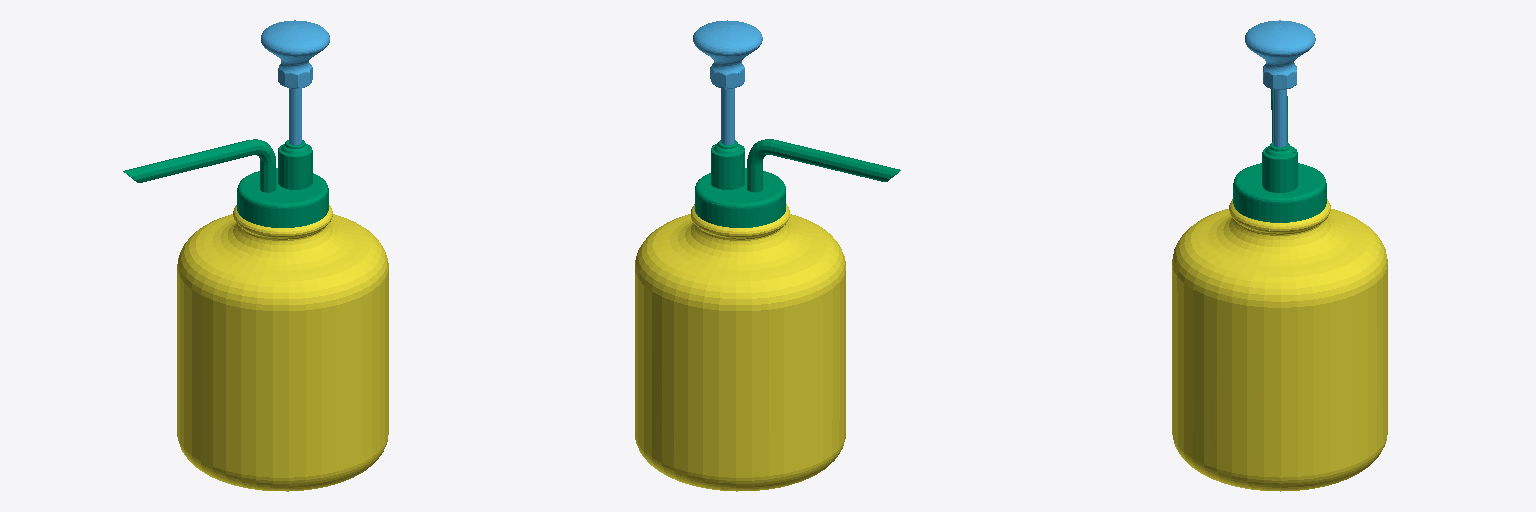
The robot description file, URDF, robot "partnet_8c726f9c-876e-4583-89ae-4255711b14f0":
<?xml version="1.0" ?>
<robot name="partnet_8c726f9c-876e-4583-89ae-4255711b14f0">
	<link name="base"/>
	<link name="link_0">
		<visual name="pressing_lid-1">
			<origin xyz="-0.005210566552212842 0 0.05300036527483853"/>
			<geometry>
				<mesh filename="textured_objs/original_2.obj"/>
			</geometry>
		</visual>
		<visual name="pressing_lid-1">
			<origin xyz="-0.005210566552212842 0 0.05300036527483853"/>
			<geometry>
				<mesh filename="textured_objs/original_4.obj"/>
			</geometry>
		</visual>
		<collision>
			<origin xyz="-0.005210566552212842 0 0.05300036527483853"/>
			<geometry>
				<mesh filename="textured_objs/original_2.obj"/>
			</geometry>
		</collision>
		<collision>
			<origin xyz="-0.005210566552212842 0 0.05300036527483853"/>
			<geometry>
				<mesh filename="textured_objs/original_4.obj"/>
			</geometry>
		</collision>
	</link>
	<joint name="joint_0" type="continuous">
		<origin xyz="0.0 0 0.0"/>
		<axis xyz="0 1 0"/>
		<child link="link_0"/>
		<parent link="link_0_helper"/>
	</joint>
	<link name="link_1">
		<visual name="head-3">
			<origin xyz="-0.005746960569657086 0 0.0077259795611607784"/>
			<geometry>
				<mesh filename="textured_objs/original_6.obj"/>
			</geometry>
		</visual>
		<visual name="head-3">
			<origin xyz="-0.005746960569657086 0 0.0077259795611607784"/>
			<geometry>
				<mesh filename="textured_objs/original_3.obj"/>
			</geometry>
		</visual>
		<visual name="head-3">
			<origin xyz="-0.005746960569657086 0 0.0077259795611607784"/>
			<geometry>
				<mesh filename="textured_objs/original_11.obj"/>
			</geometry>
		</visual>
		<collision>
			<origin xyz="-0.005746960569657086 0 0.0077259795611607784"/>
			<geometry>
				<mesh filename="textured_objs/original_6.obj"/>
			</geometry>
		</collision>
		<collision>
			<origin xyz="-0.005746960569657086 0 0.0077259795611607784"/>
			<geometry>
				<mesh filename="textured_objs/original_3.obj"/>
			</geometry>
		</collision>
		<collision>
			<origin xyz="-0.005746960569657086 0 0.0077259795611607784"/>
			<geometry>
				<mesh filename="textured_objs/original_11.obj"/>
			</geometry>
		</collision>
	</link>
	<joint name="joint_1" type="continuous">
		<origin xyz="0.0 0 0.0"/>
		<axis xyz="0 -1 0"/>
		<child link="link_1"/>
		<parent link="link_1_helper"/>
	</joint>
	<link name="link_2">
		<visual name="base_body-4">
			<origin xyz="0 0 0"/>
			<geometry>
				<mesh filename="textured_objs/original_9.obj"/>
			</geometry>
		</visual>
		<visual name="base_body-4">
			<origin xyz="0 0 0"/>
			<geometry>
				<mesh filename="textured_objs/original_7.obj"/>
			</geometry>
		</visual>
		<visual name="base_body-4">
			<origin xyz="0 0 0"/>
			<geometry>
				<mesh filename="textured_objs/original_10.obj"/>
			</geometry>
		</visual>
		<collision>
			<origin xyz="0 0 0"/>
			<geometry>
				<mesh filename="textured_objs/original_9.obj"/>
			</geometry>
		</collision>
		<collision>
			<origin xyz="0 0 0"/>
			<geometry>
				<mesh filename="textured_objs/original_7.obj"/>
			</geometry>
		</collision>
		<collision>
			<origin xyz="0 0 0"/>
			<geometry>
				<mesh filename="textured_objs/original_10.obj"/>
			</geometry>
		</collision>
	</link>
	<joint name="joint_2" type="fixed">
		<origin rpy="1.570796326794897 0 -1.570796326794897" xyz="0 0 0"/>
		<child link="link_2"/>
		<parent link="base"/>
	</joint>
	<link name="link_0_helper">
		<inertial>
			<origin xyz="0 0 0"/>
			<mass value="1e-6"/>
			<inertia ixx="1e-10" ixy="0" ixz="0" iyy="1e-10" iyz="0" izz="1e-10"/>
		</inertial>
	</link>
	<joint name="joint_3" type="prismatic">
		<origin xyz="-0.0005363940174442439 0 -0.04527438571367775"/>
		<axis xyz="0 -1 0"/>
		<child link="link_0_helper"/>
		<parent link="link_1"/>
		<limit lower="0" upper="0.2"/>
	</joint>
	<link name="link_1_helper">
		<inertial>
			<origin xyz="0 0 0"/>
			<mass value="1e-6"/>
			<inertia ixx="1e-10" ixy="0" ixz="0" iyy="1e-10" iyz="0" izz="1e-10"/>
		</inertial>
	</link>
	<joint name="joint_4" type="prismatic">
		<origin xyz="0.005746960569657086 0 -0.0077259795611607784"/>
		<axis xyz="0 1 0"/>
		<child link="link_1_helper"/>
		<parent link="link_2"/>
		<limit lower="0" upper="0.020000000000000018"/>
	</joint>
</robot>

--- Facts derived from the render (not from the file) ---
The picture shows the robot from 3 angles, left to right: view 1: azimuth 30°, elevation 25°; view 2: azimuth 150°, elevation 25°; view 3: azimuth 270°, elevation 25°; orthographic projection.
Robot: partnet_8c726f9c-876e-4583-89ae-4255711b14f0 — 6 links, 5 joints (2 continuous, 2 prismatic, 1 fixed); root link base; default pose: every joint at zero.
Links seen in each view (by area): view 1: link_2, link_1, link_0; view 2: link_2, link_1, link_0; view 3: link_2, link_1, link_0.
Boxes of the visible links, box(x1,y1,x2,y2) form: link_2: box(177, 205, 388, 491); link_1: box(123, 139, 328, 227); link_0: box(261, 20, 329, 148); link_2: box(635, 204, 845, 491); link_1: box(695, 139, 900, 227); link_0: box(693, 20, 762, 144); link_2: box(1172, 199, 1387, 491); link_1: box(1233, 89, 1326, 222); link_0: box(1245, 20, 1315, 158).
Bounding box of the posed robot: 0.9104 × 0.6654 × 1.47 m (x, y, z).
8 mesh visuals loaded from 8 distinct referenced files (8 OBJ).
